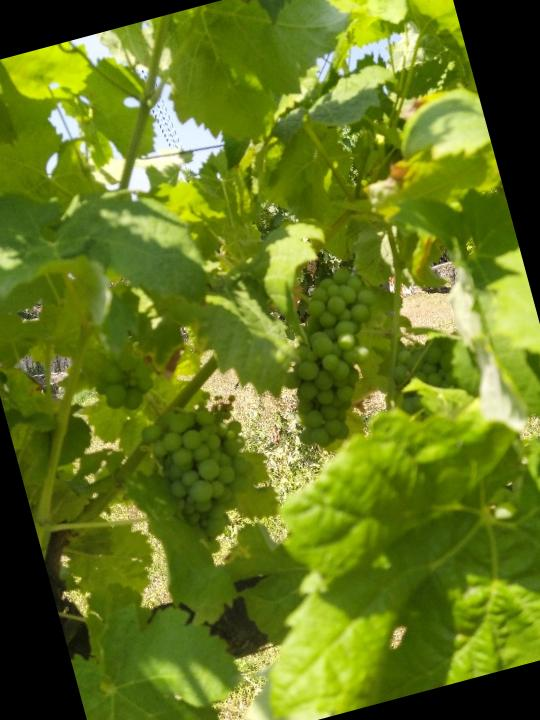grape: (257, 258, 413, 455), (134, 396, 268, 551)
